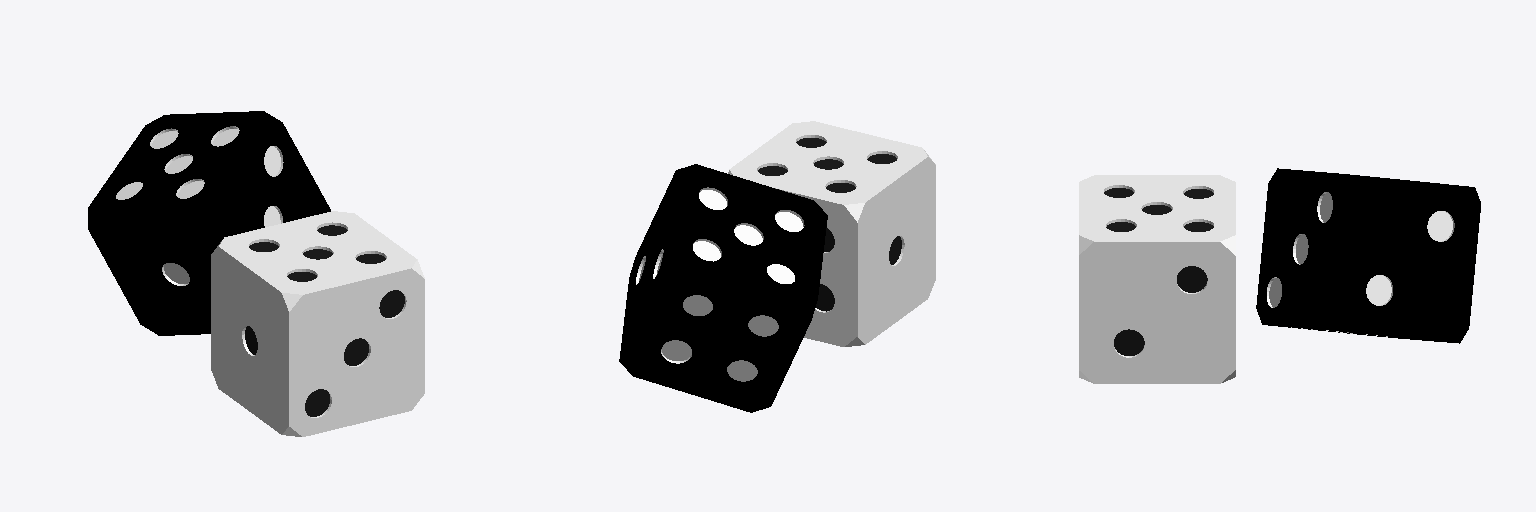
Rendered from block2.obj.
The picture shows the model from 3 angles: view 1: azimuth 30°, elevation 25°; view 2: azimuth 150°, elevation 25°; view 3: azimuth 270°, elevation 25°; orthographic projection.
Visible parts, largest first — view 1: Mesh1 DICE1 Model, Mesh2 Model; view 2: Mesh2 Model, Mesh1 DICE1 Model; view 3: Mesh2 Model, Mesh1 DICE1 Model.
Boxes of the visible parts, box(x1,y1,x2,y2) form: Mesh1 DICE1 Model: box(211, 211, 424, 436); Mesh2 Model: box(88, 111, 330, 335); Mesh2 Model: box(619, 164, 827, 412); Mesh1 DICE1 Model: box(728, 121, 935, 346); Mesh2 Model: box(1256, 168, 1480, 343); Mesh1 DICE1 Model: box(1079, 175, 1235, 383).
Bounding box in the file's own units: 1.86 × 1.74 × 3.06.